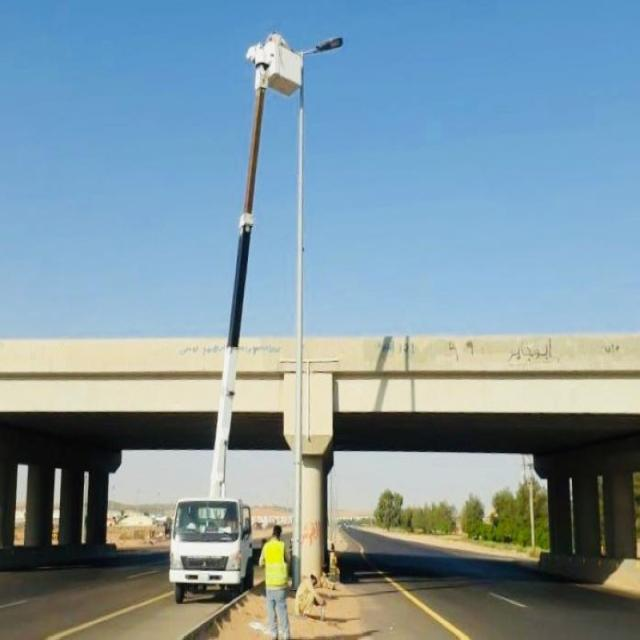Street Light: (294, 36, 345, 596)
